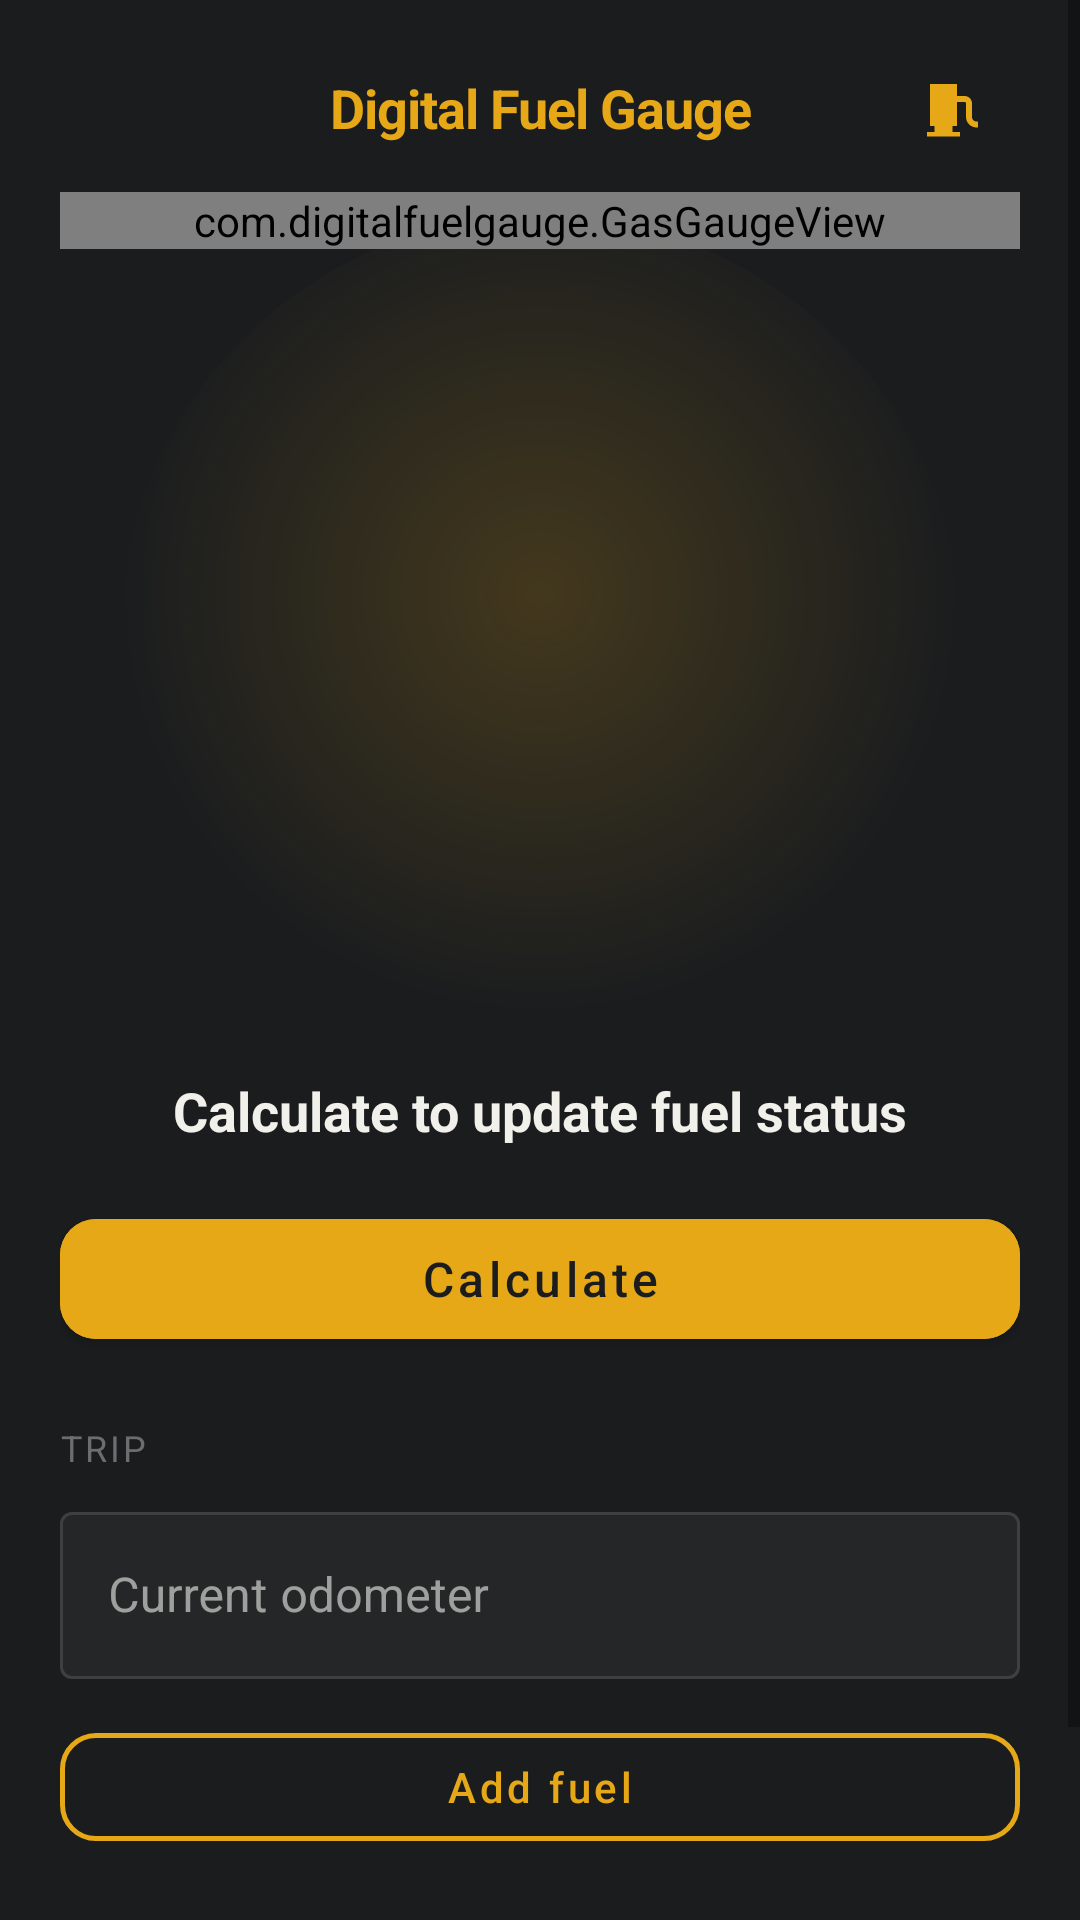

Icon bounding boxes for this 1080*1920 phone screenshot, format BBox(x1, y1, x2, y2):
Open GasBuddy: BBox(927, 84, 978, 137)
